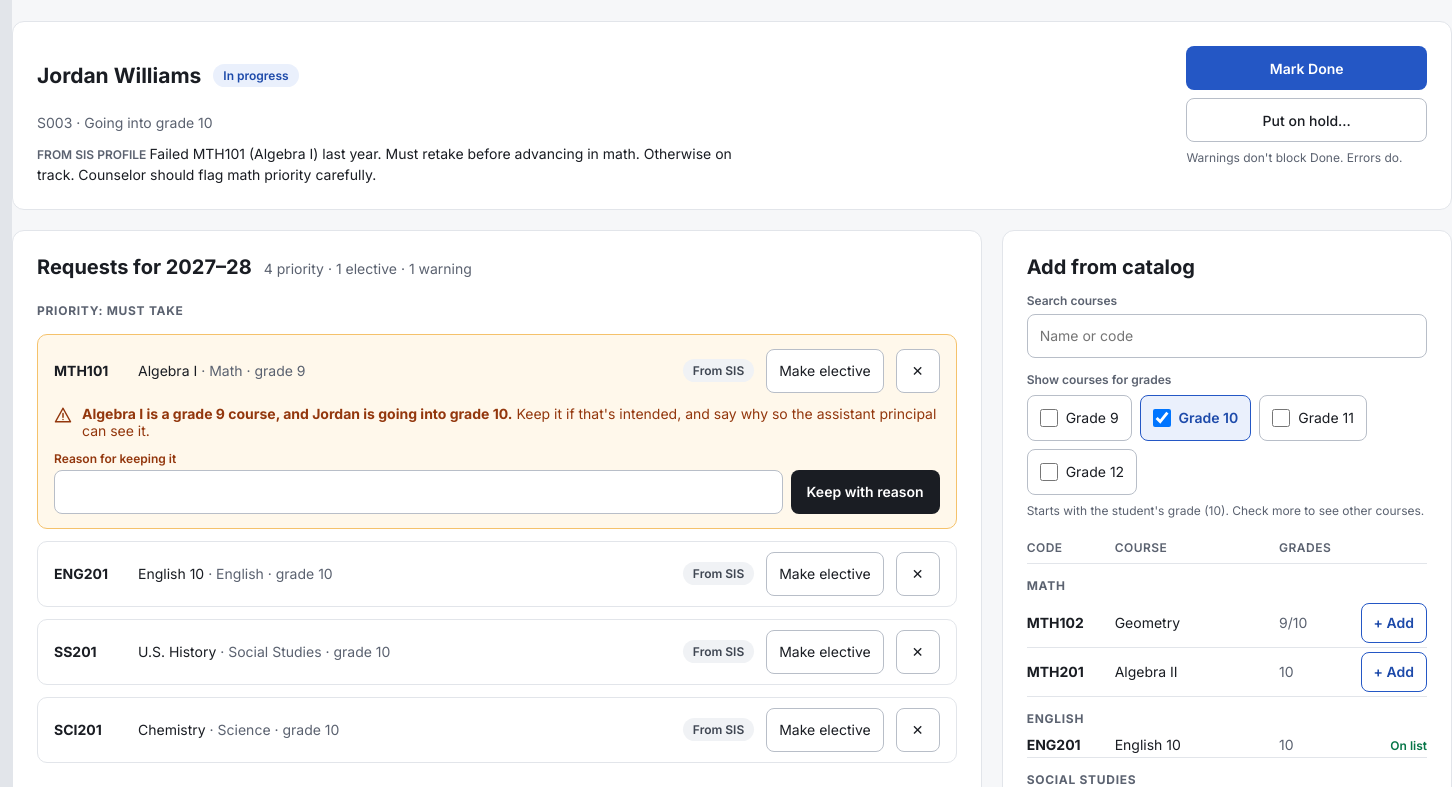
it: checking Grade 12 adds its courses
The width and height of the screenshot is (1452, 787).
Click the checkbox labelled "Grade 12".
click(1049, 472)  # box top-left (1040, 463), bottom-right (1058, 481)
(page scrolled)
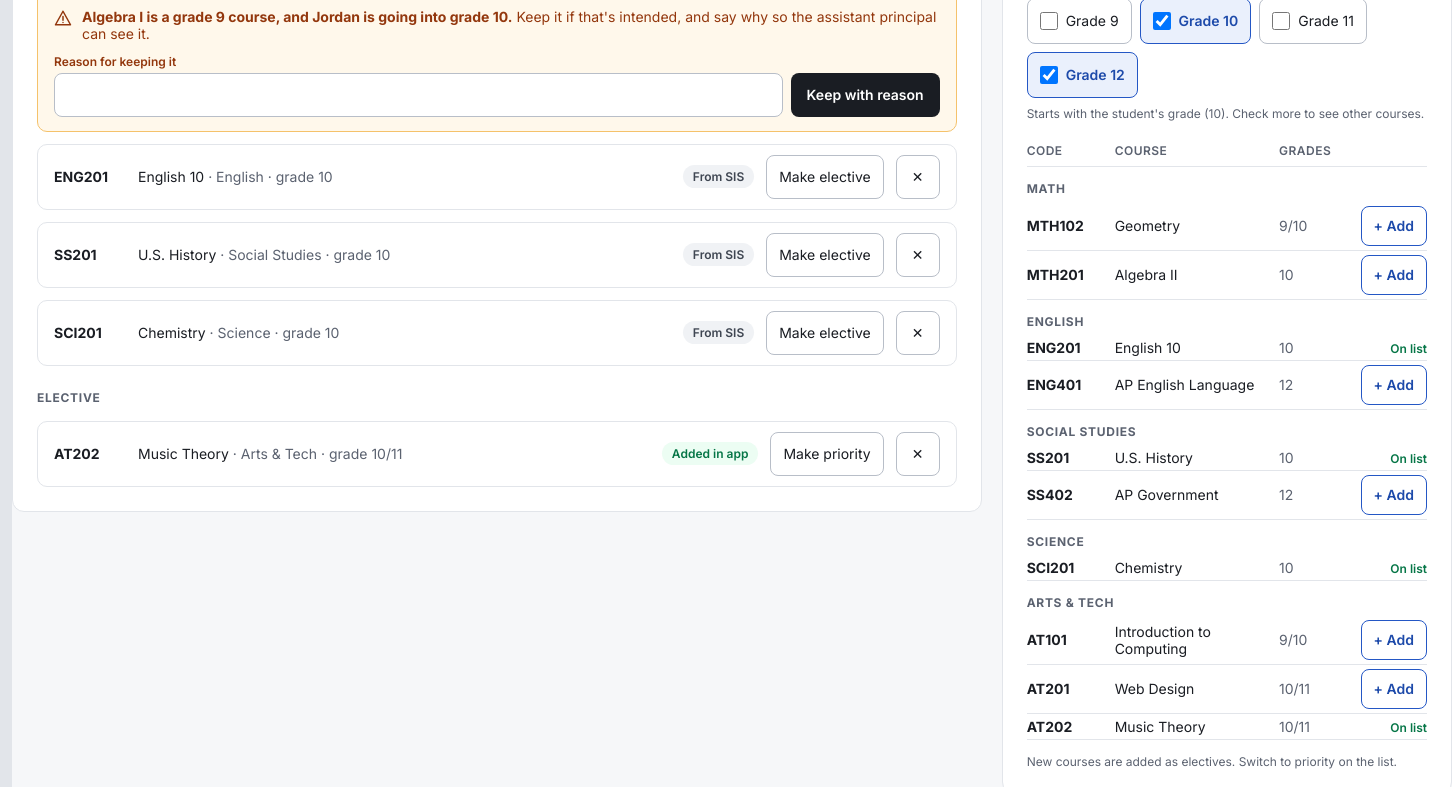
Expected: the text "AT101" is shown, top-left (1027, 616), bottom-right (1107, 664)
Expected: the text "ENG401" is shown, top-left (1027, 360), bottom-right (1107, 409)
